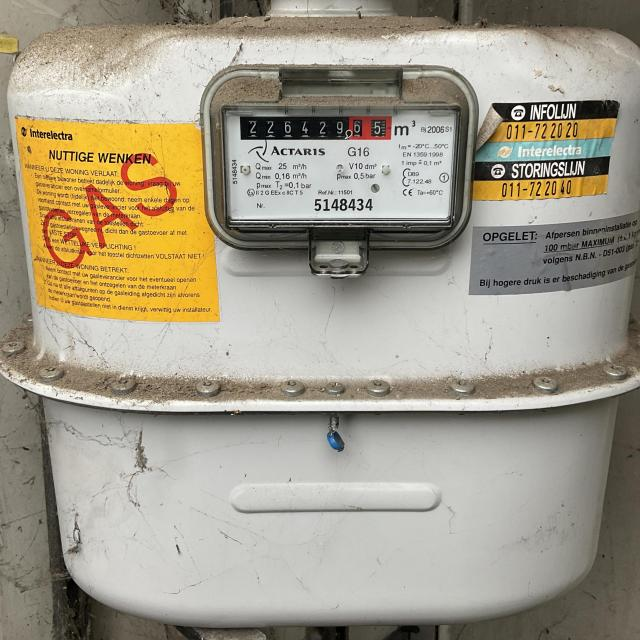gaz_meter: (221, 100, 457, 225)
indication: (240, 112, 392, 140)
